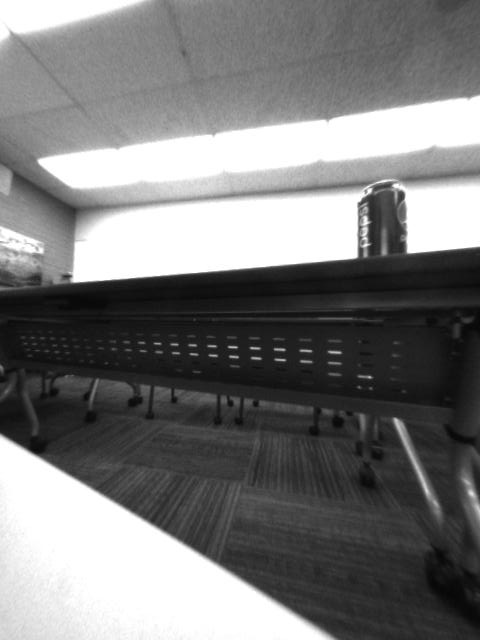can: (354, 178, 410, 261)
